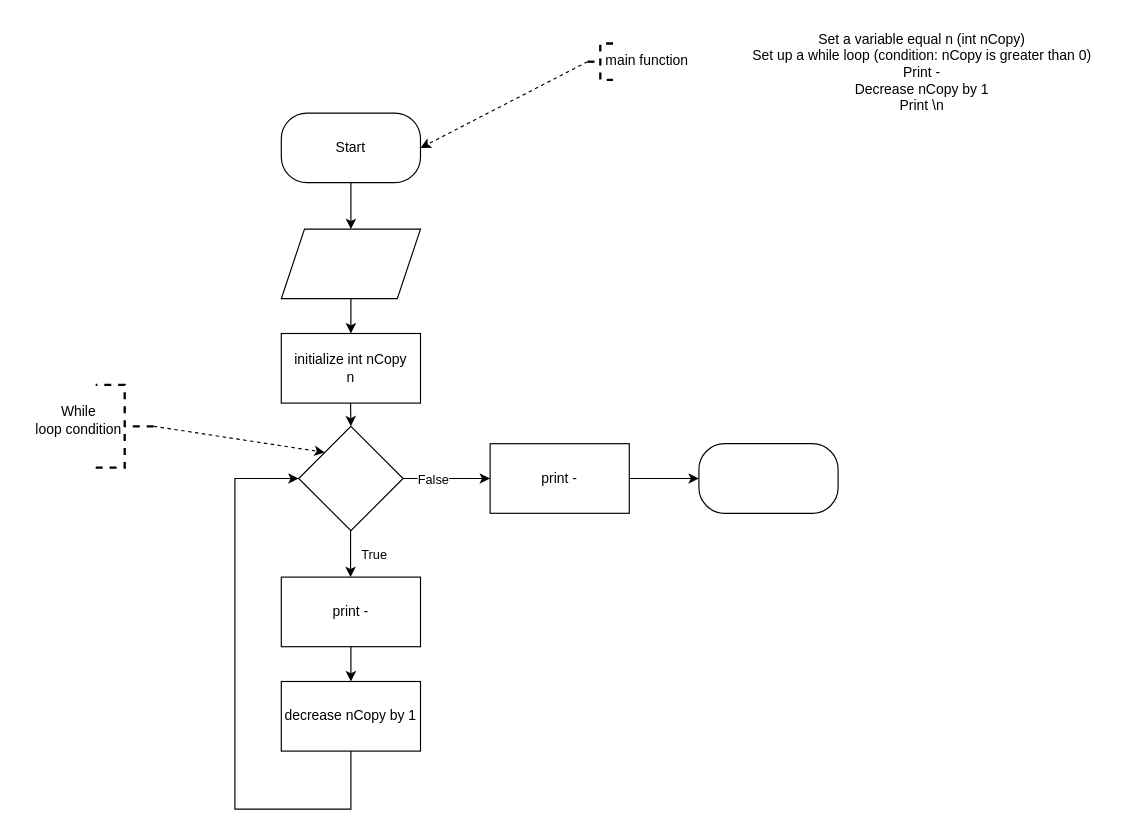
The diagram is 1121 pixels wide and 839 high, and some of its shapes have lost their labels. The shapes that lost their labels are listed below. From the top down, each one's centre as x and y in pixels, then its label:
pixel 350 263: input: int n
pixel 350 478: condition: if nCopy > 0
pixel 768 478: END
